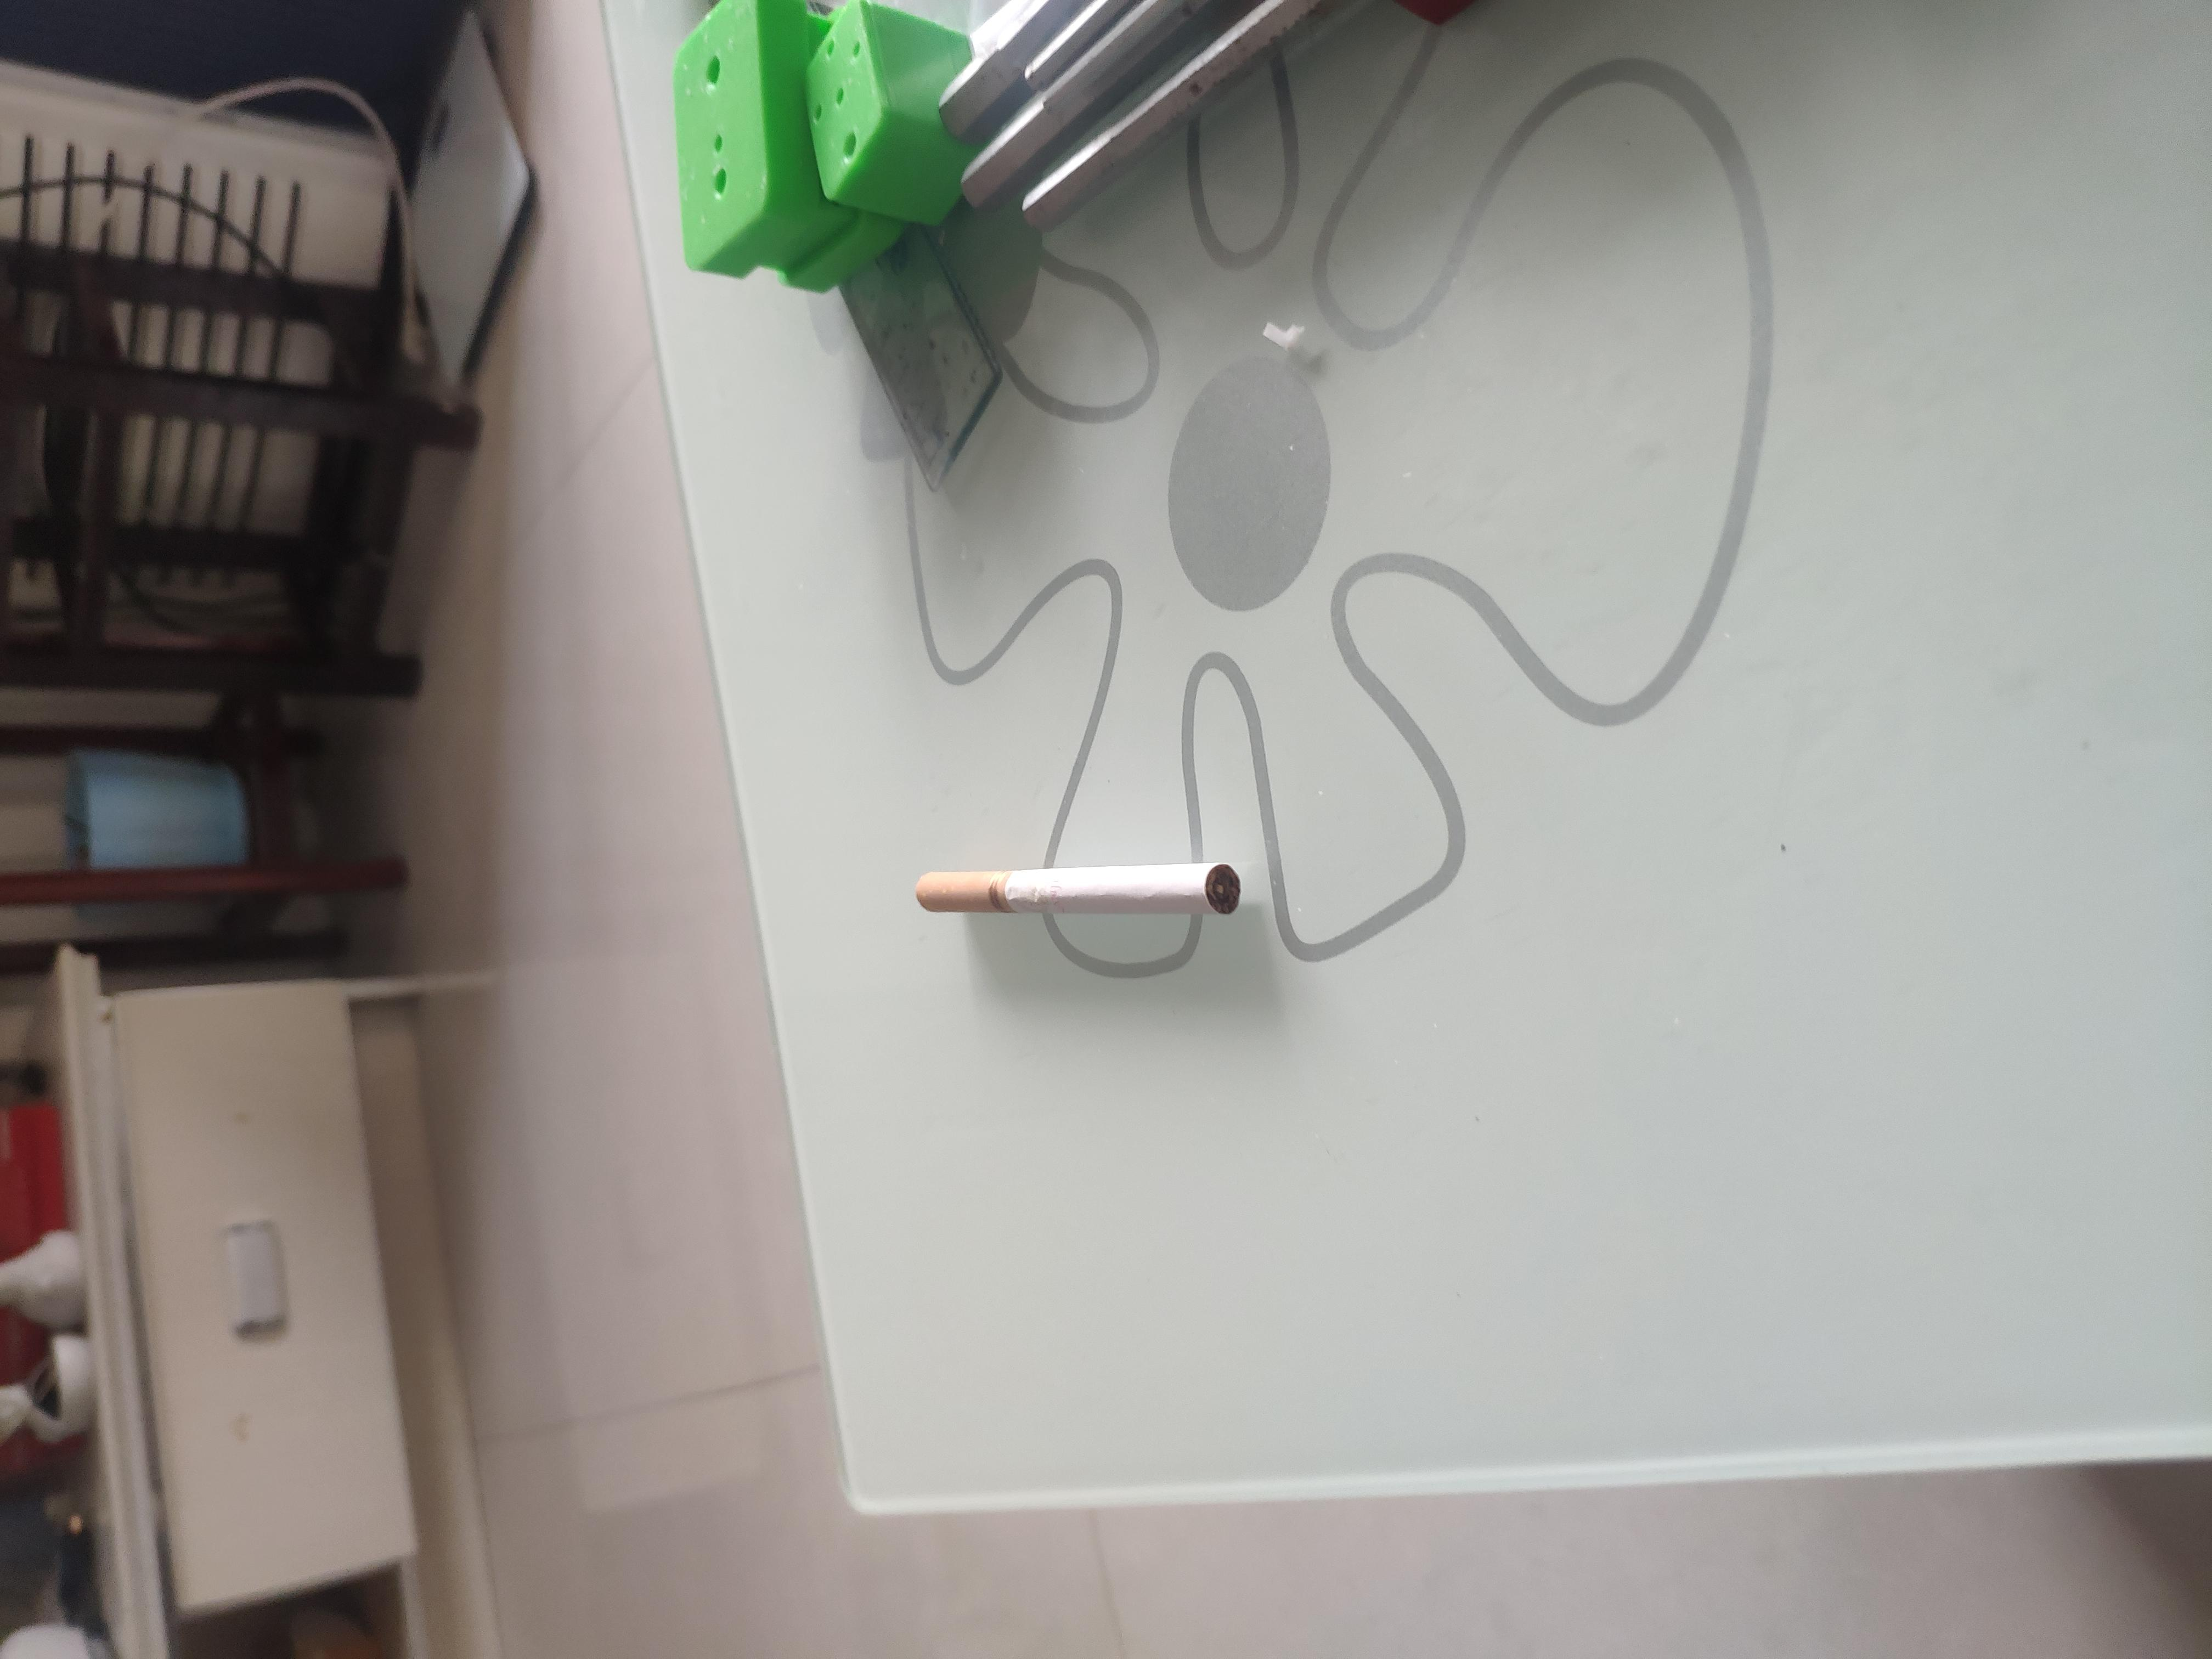smoke: (984, 687, 1073, 932)
